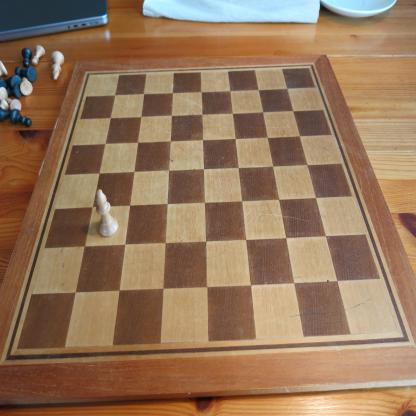black-pawn: (10, 108, 32, 128), (21, 47, 33, 68)
white-bishop: (94, 188, 118, 238), (50, 50, 65, 81)
white-pawn: (31, 44, 46, 66)
